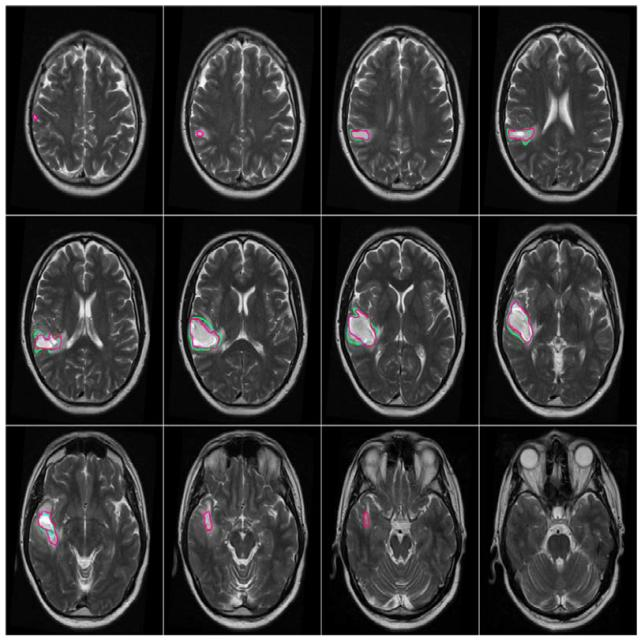Tumor: (510, 302, 535, 340), (189, 319, 217, 349), (351, 312, 376, 342), (40, 514, 54, 536), (37, 338, 59, 350), (508, 130, 532, 138), (350, 132, 371, 140), (204, 514, 214, 530), (196, 128, 208, 140)
